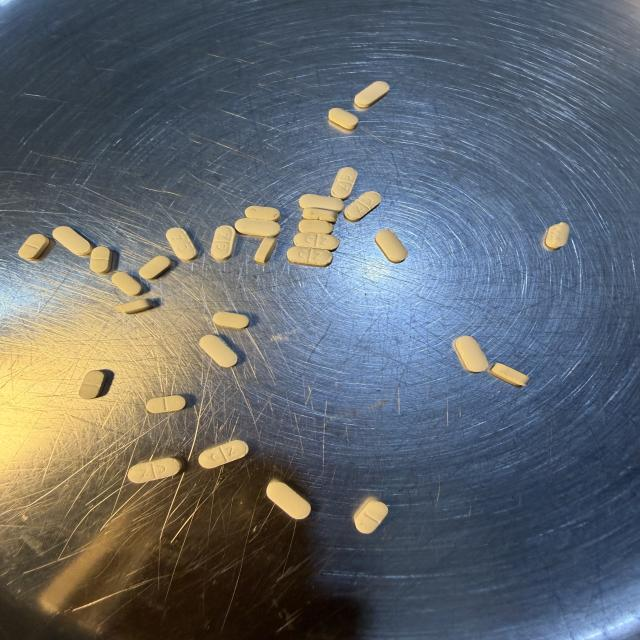pill: (267, 481, 310, 519), (199, 440, 248, 468), (128, 458, 182, 483), (454, 336, 488, 372), (199, 335, 237, 367), (53, 227, 92, 256), (354, 500, 388, 533), (375, 230, 408, 263), (345, 192, 381, 221), (166, 228, 197, 261), (355, 81, 389, 108), (490, 363, 529, 386), (211, 226, 236, 261), (235, 218, 280, 237), (287, 247, 332, 266), (299, 194, 344, 212), (331, 168, 357, 199), (18, 234, 49, 260), (79, 370, 106, 399), (294, 233, 339, 250), (139, 256, 171, 279), (112, 272, 142, 296), (146, 395, 186, 413), (545, 222, 570, 249), (254, 238, 277, 266), (213, 312, 249, 329), (329, 108, 358, 129), (90, 247, 112, 274), (115, 299, 153, 314), (245, 206, 280, 221), (303, 208, 338, 223), (299, 219, 333, 234)
